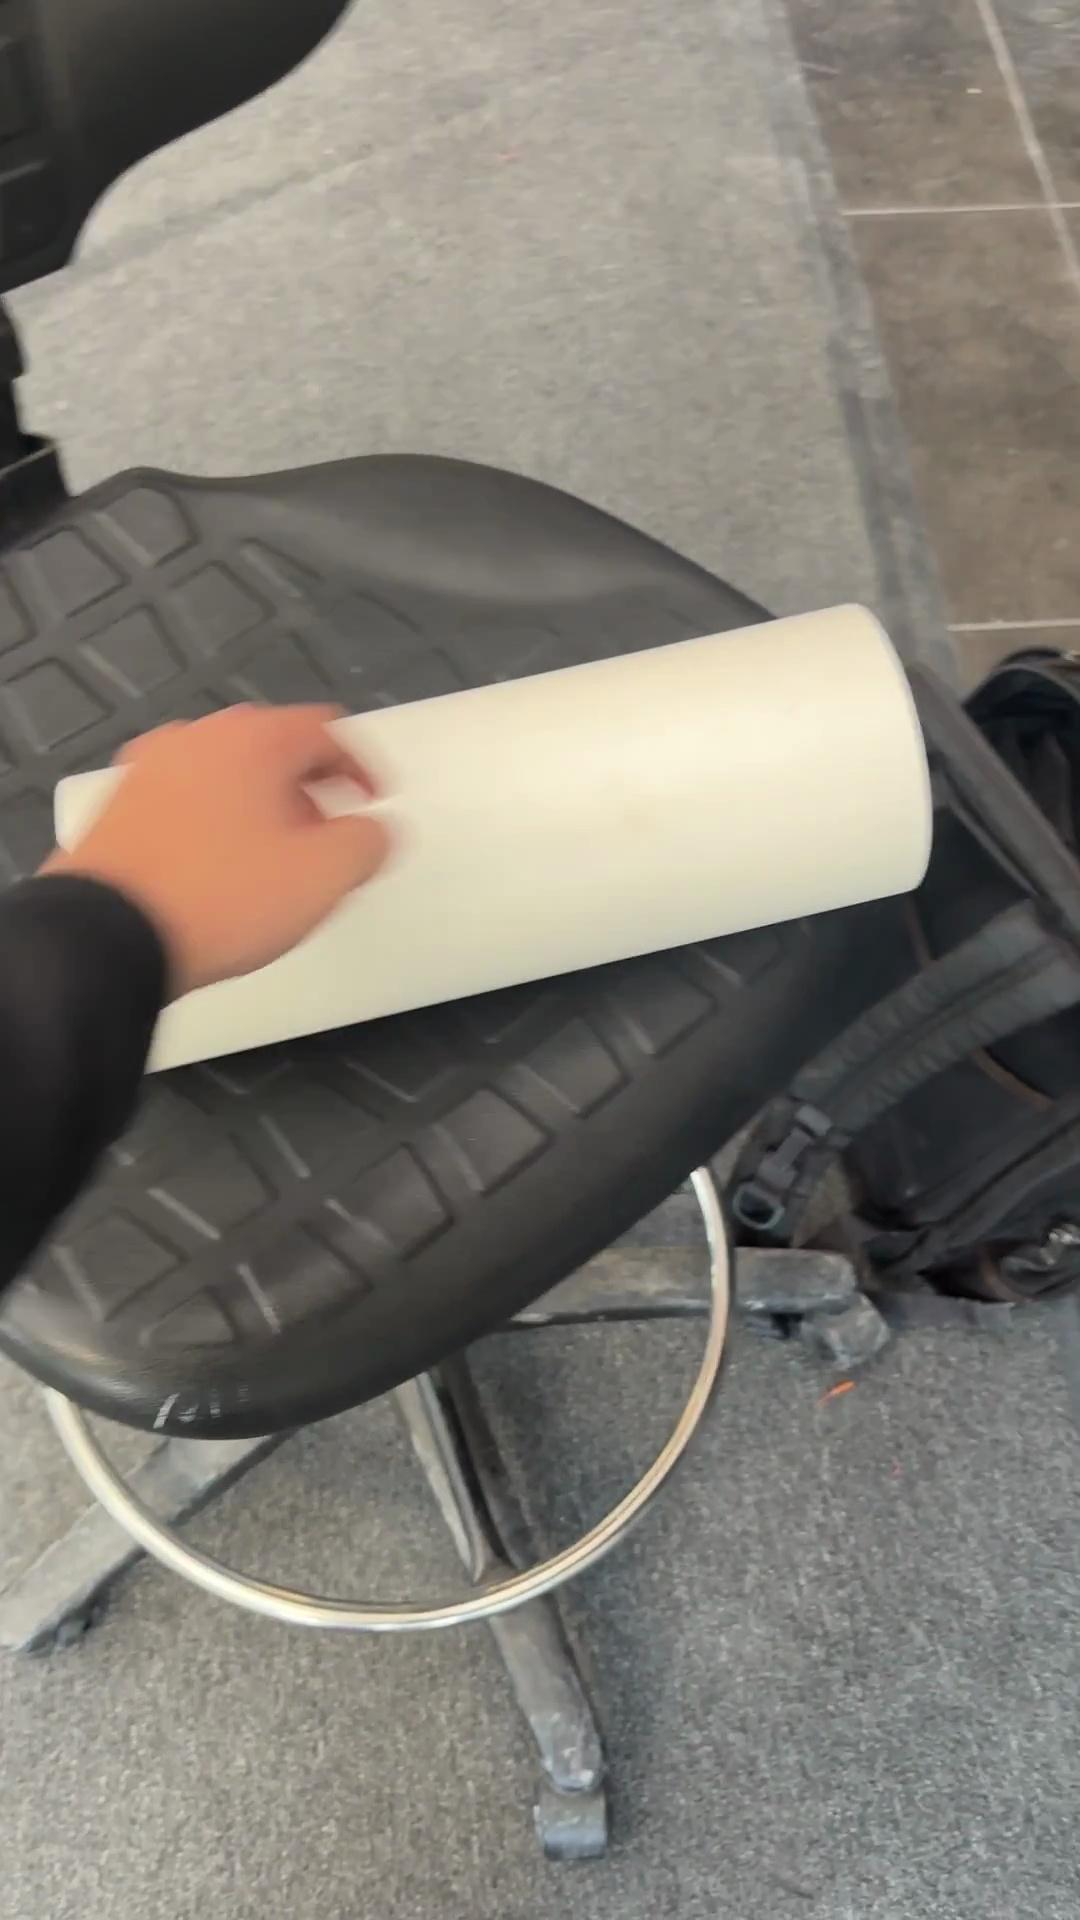CORAL: (47, 596, 936, 1076)
